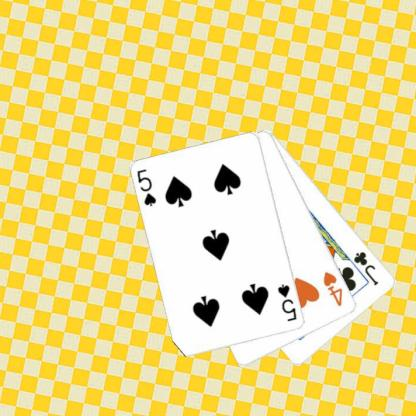4H: (321, 269, 344, 308)
5S: (275, 282, 299, 323), (134, 167, 158, 208)
JC: (351, 249, 380, 287)
